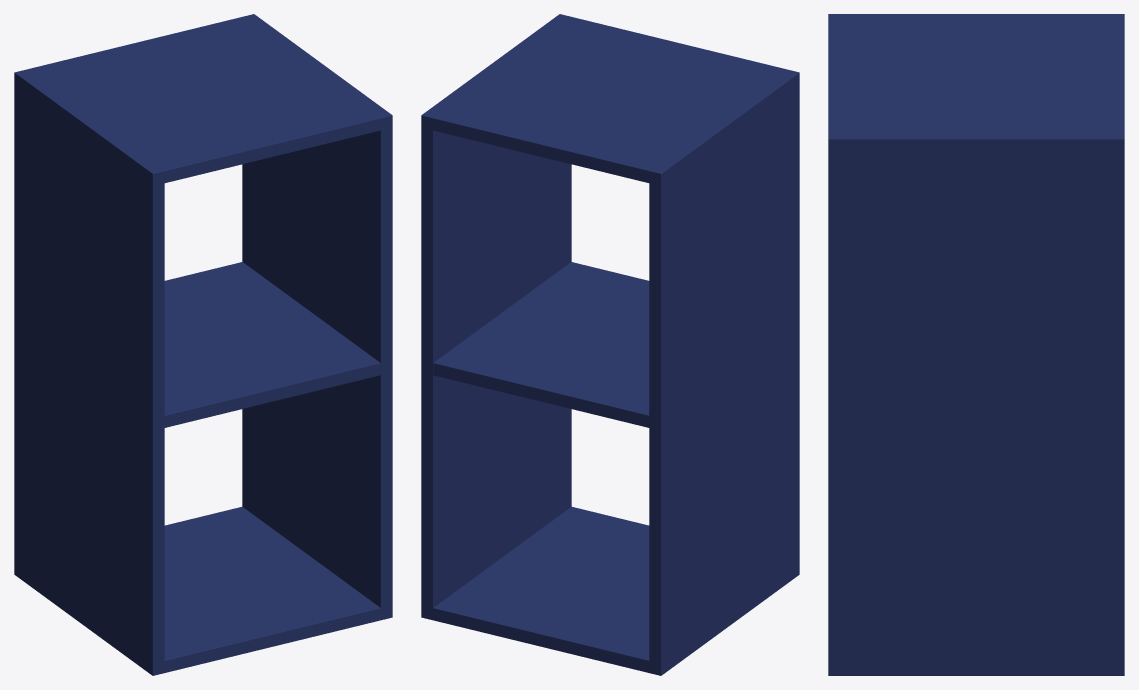
File: MOD_1X2_S_O_AF.glb
The picture shows the model from 3 angles, left to right: view 1: azimuth 30°, elevation 25°; view 2: azimuth 150°, elevation 25°; view 3: azimuth 270°, elevation 25°; orthographic projection. The views are drawn at different scales.
Bounding box in the file's own units: 360 × 720 × 360.
